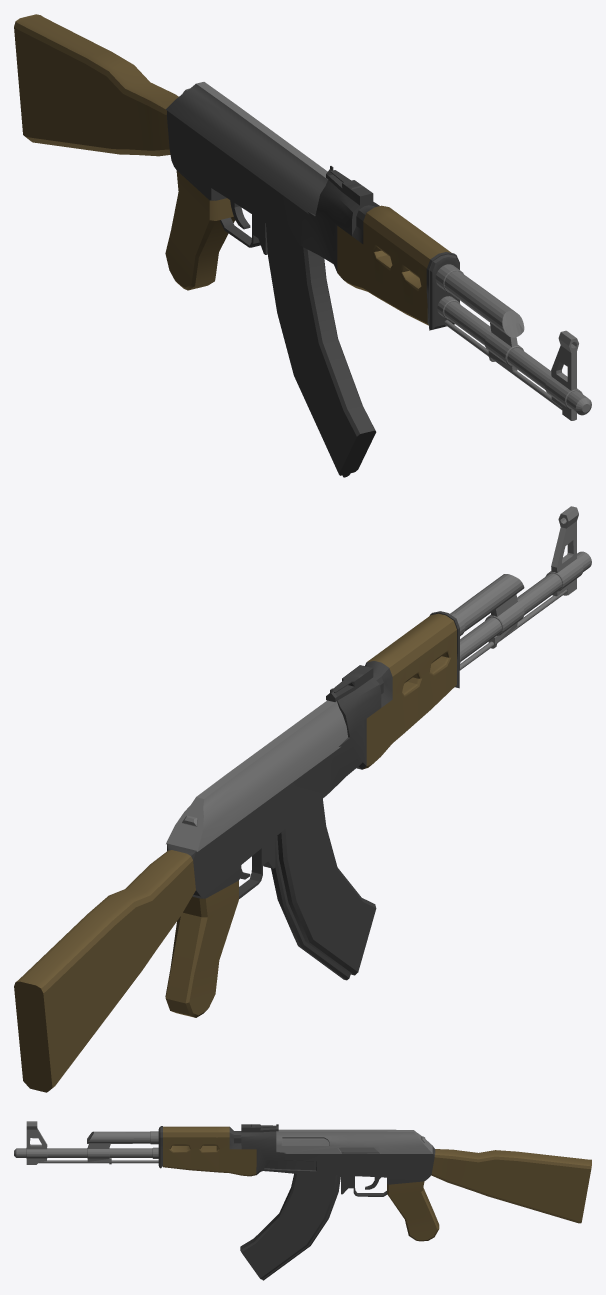
File: Kalashnikov.fbx
3 renders of one model, top to bottom at view 1: azimuth 30°, elevation 25°; view 2: azimuth 150°, elevation 25°; view 3: azimuth 270°, elevation 25°, orthographic. The views are drawn at different scales.
Parts seen in each view (by area): view 1: kropp, barrel, dustcover; view 2: kropp, dustcover, barrel; view 3: kropp, dustcover, barrel.
Part boxes in pixels (x1,y1,x2,y2): kropp: (14,14,459,477); barrel: (435,264,591,420); dustcover: (166,82,327,214); kropp: (14,611,459,1092); dustcover: (166,700,347,851); barrel: (450,506,591,670); kropp: (158,1124,591,1280); dustcover: (276,1129,432,1153); barrel: (14,1121,158,1164).
Size of the model in its own units: 1.19 by 9.95 by 32.92.
